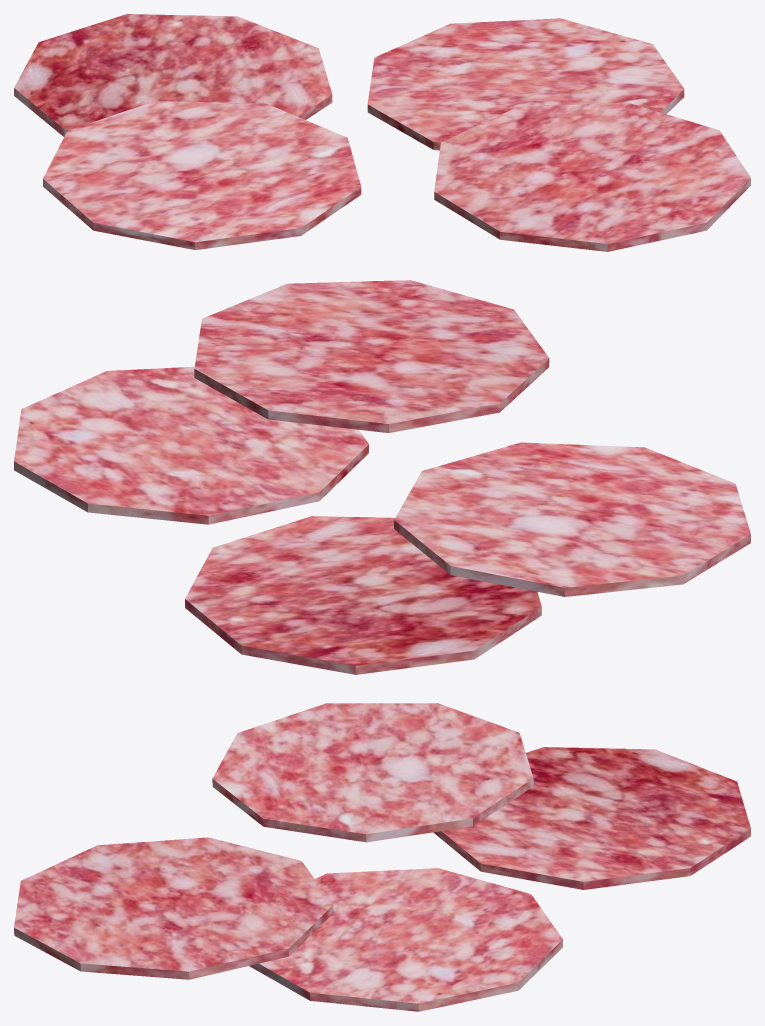
File: колбаса.fbx
3 views of the same model, one above another, from view 1: azimuth 30°, elevation 25°; view 2: azimuth 150°, elevation 25°; view 3: azimuth 270°, elevation 25° (orthographic). The views are drawn at different scales.
Visible parts, largest first — view 1: Cylinder.027; view 2: Cylinder.027; view 3: Cylinder.027.
Part boxes in pixels (box(x1,y1,x2,y2)): Cylinder.027: box(14, 14, 750, 251); Cylinder.027: box(14, 280, 750, 674); Cylinder.027: box(14, 703, 750, 1011).
Size of the model in its own units: 136 by 130 by 4.45.
